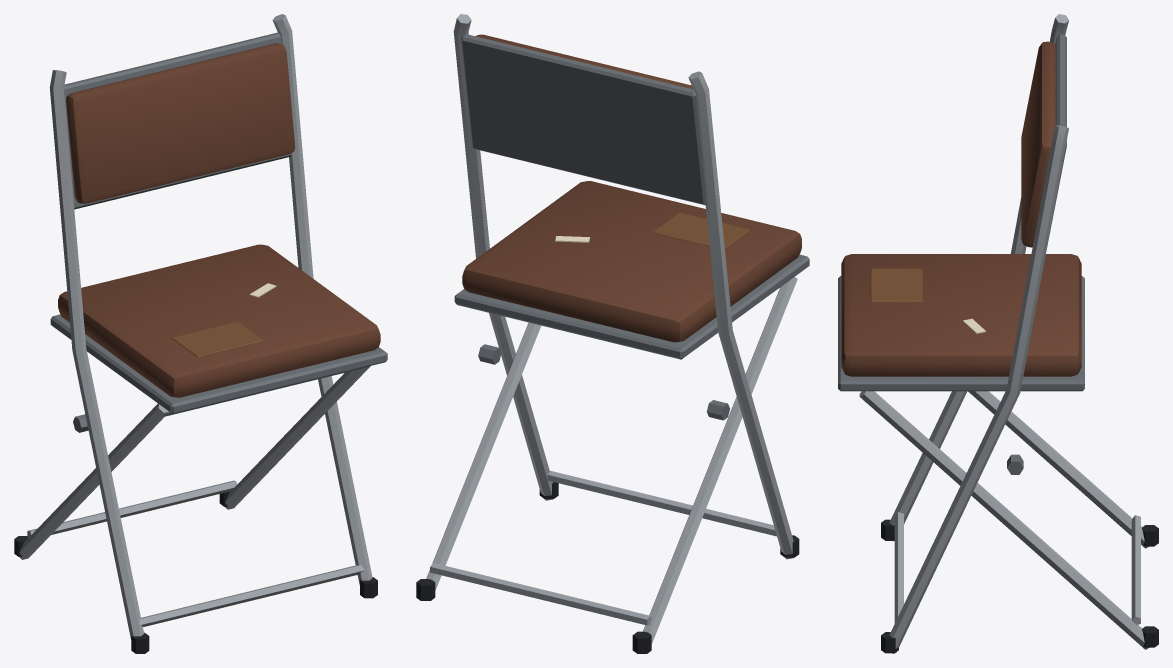
File: SC_Home_Folding_Chair.gltf
3 views of the same model, side by side, from view 1: azimuth 30°, elevation 25°; view 2: azimuth 150°, elevation 25°; view 3: azimuth 270°, elevation 25° (orthographic). The views are drawn at different scales.
Visible parts, largest first — view 1: SC_Home_Folding_Chair; view 2: SC_Home_Folding_Chair; view 3: SC_Home_Folding_Chair.
Boxes of the visible parts, x1,y1,x2,y2 form: SC_Home_Folding_Chair: [14, 14, 387, 653]; SC_Home_Folding_Chair: [416, 14, 809, 653]; SC_Home_Folding_Chair: [838, 14, 1158, 653].
Size of the model in its own units: 0.4342 by 0.8958 by 0.494.
Materials: 1 (1 with a texture image).
